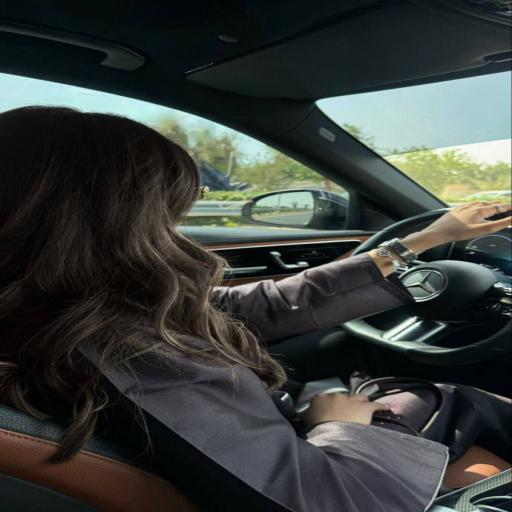bottle: (0, 0, 510, 285)
laptop: (0, 107, 456, 511)
